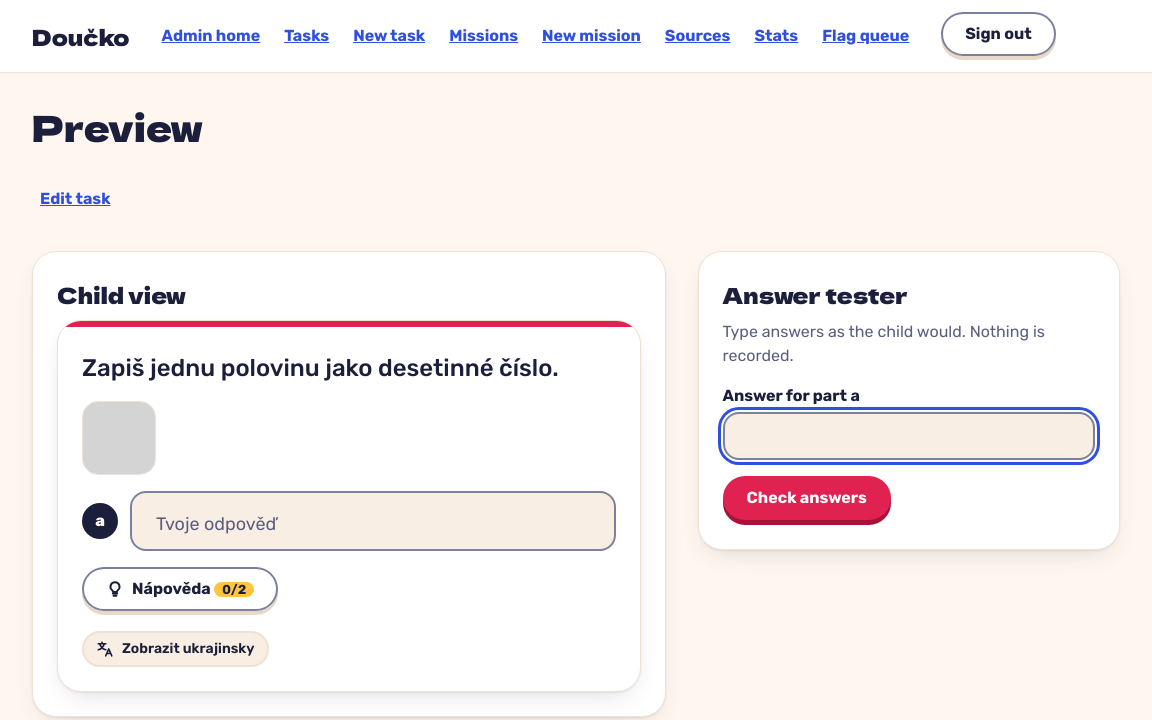
Test: answer tester (FR-10) › says checking failed when the server cannot be reached
This screenshot has width=1152, height=720.
Check: the heading "Preview" is shown, box [32,100,202,152]
Check: the element "Child view" is shown, box [32,251,666,717]
In the field labelled "Answer for part a": (909, 436) [723,412,1095,460], type "1"
Then press Enter
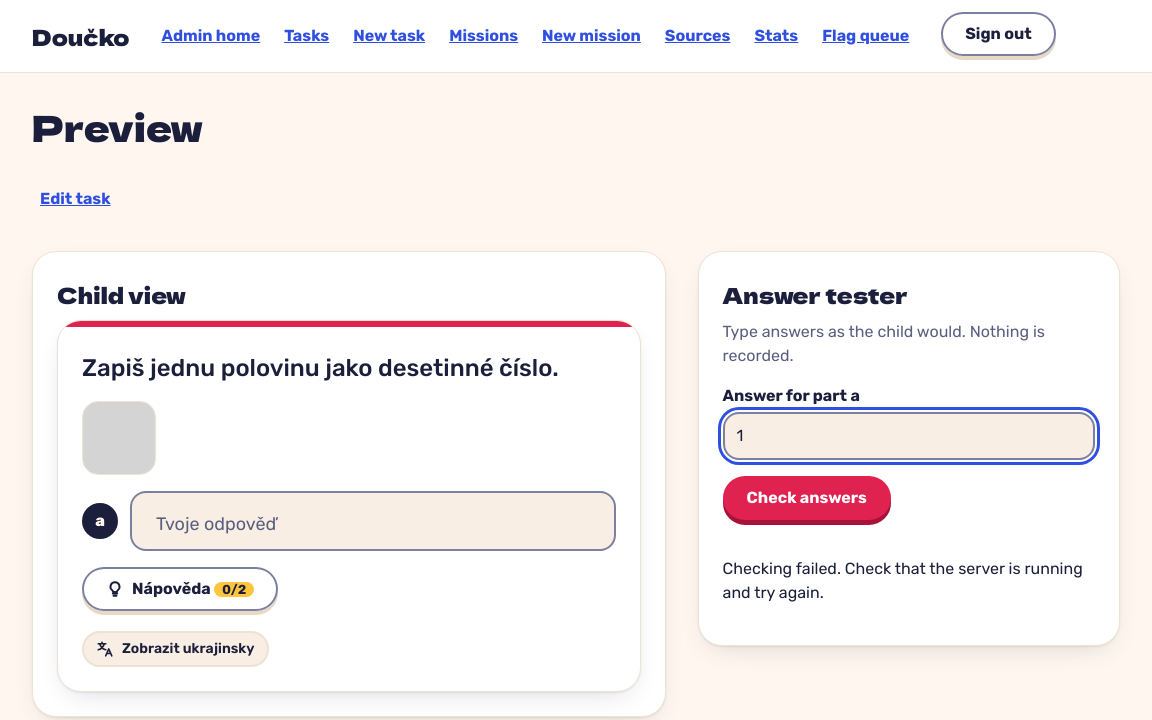
Check: the message reads "Checking failed. Check that the server is running and try again.", box [723,559,1083,602]
